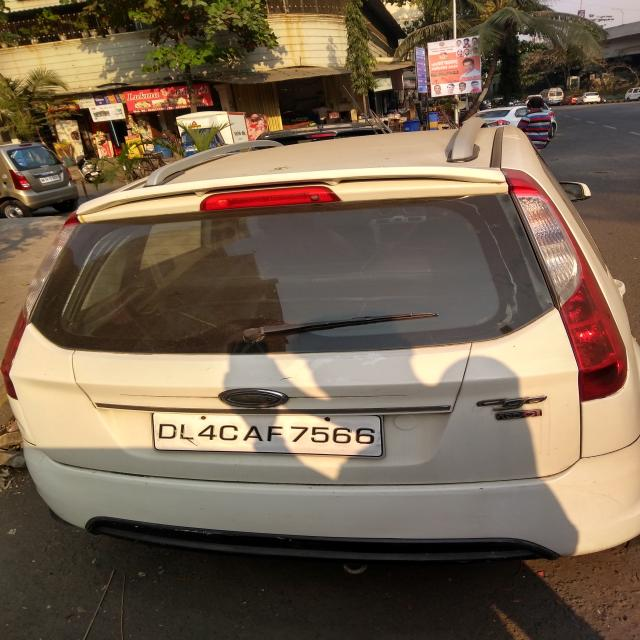Number-Plate: (155, 411, 387, 453)
